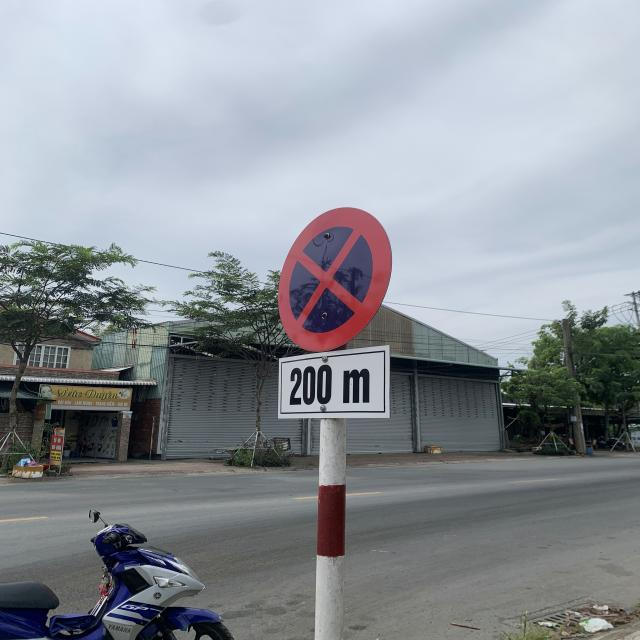Cam_Dung_Va_Dau_Xe: (277, 206, 391, 353)
